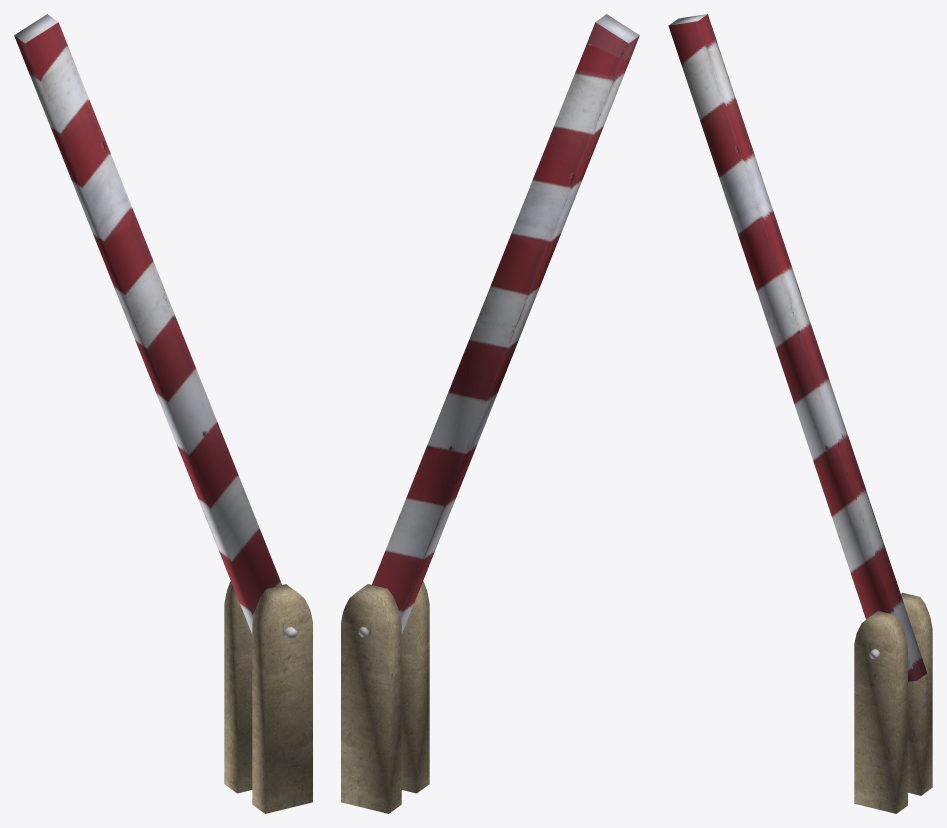
File: BarreraPeaje.obj
The picture shows the model from 3 angles, left to right: view 1: azimuth 30°, elevation 25°; view 2: azimuth 150°, elevation 25°; view 3: azimuth 330°, elevation 25°; orthographic projection. The views are drawn at different scales.
Visible parts, largest first — view 1: Cylinder, Cube.001; view 2: Cylinder, Cube.001; view 3: Cylinder, Cube.001.
Part boxes in pixels (x1,y1,x2,y2): Cylinder: (14, 14, 297, 638); Cube.001: (224, 581, 312, 813); Cylinder: (358, 14, 639, 637); Cube.001: (341, 581, 429, 813); Cylinder: (668, 14, 926, 681); Cube.001: (854, 592, 932, 813).
Size of the model in its own units: 1.22 by 3.41 by 0.3378.
2 materials, 2 textured.
